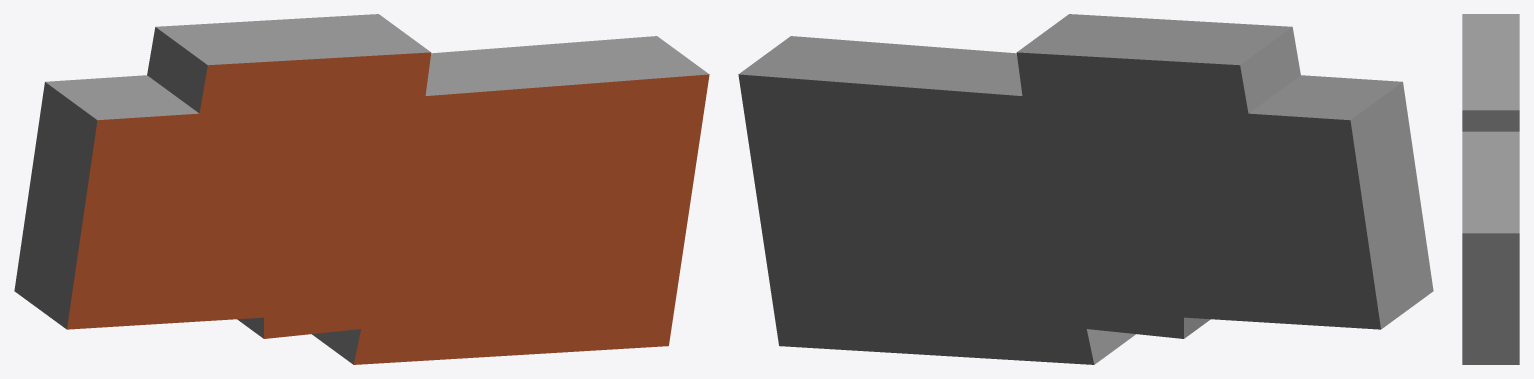
The model's file is construction_3675_assumed_A_Casa_h6m.obj.
The picture shows the model from 3 angles, left to right: view 1: azimuth 30°, elevation 25°; view 2: azimuth 150°, elevation 25°; view 3: azimuth 270°, elevation 25°; orthographic projection. The views are drawn at different scales.
Parts seen in each view (by area): view 1: construction_3675_assumed_A_Casa; view 2: construction_3675_assumed_A_Casa; view 3: construction_3675_assumed_A_Casa.
Part boxes in pixels (left/top/right/bottom): construction_3675_assumed_A_Casa: left=14, top=14, right=709, bottom=364; construction_3675_assumed_A_Casa: left=738, top=14, right=1433, bottom=364; construction_3675_assumed_A_Casa: left=1462, top=14, right=1519, bottom=364.
Size of the model in its own units: 42.4 by 24.8 by 6.
